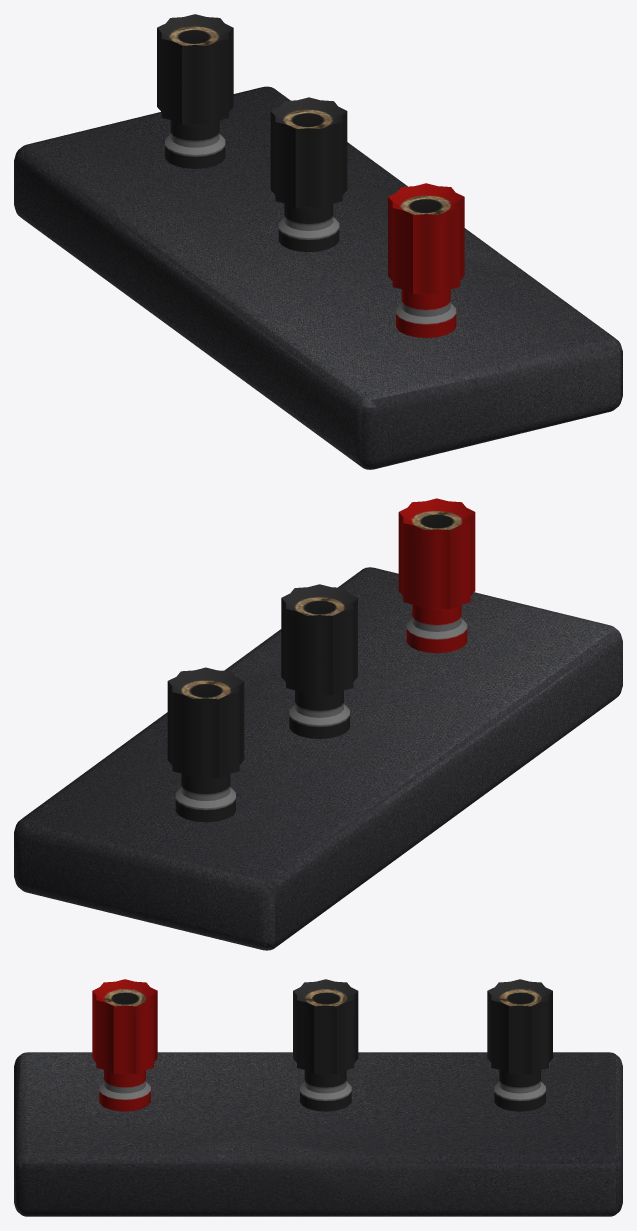
Rendered from Electro05_5.FBX.
The picture shows the model from 3 angles, top to bottom: view 1: azimuth 30°, elevation 25°; view 2: azimuth 150°, elevation 25°; view 3: azimuth 270°, elevation 25°; orthographic projection. The views are drawn at different scales.
Parts seen in each view (by area): view 1: Electro05_5; view 2: Electro05_5; view 3: Electro05_5.
Part boxes in pixels (bbox=[...]): Electro05_5: bbox=[14, 14, 622, 469]; Electro05_5: bbox=[14, 498, 622, 950]; Electro05_5: bbox=[14, 979, 622, 1216].
Size of the model in its own units: 22.02 by 15.86 by 51.28.
